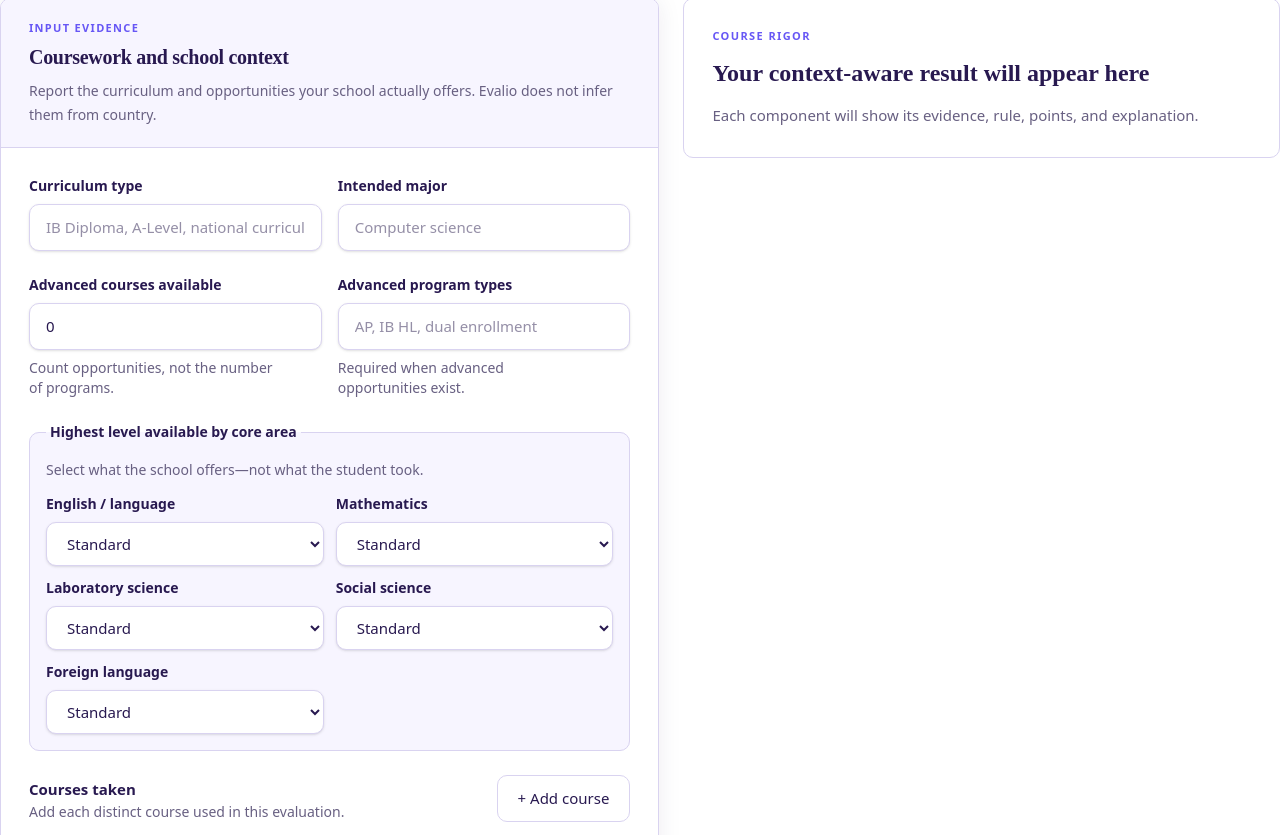
Coursework Evaluator T5 › submits school context and renders evidence for every component
In the field labelled "Curriculum type": (175, 228) [29,204,322,251], type "National curriculum"
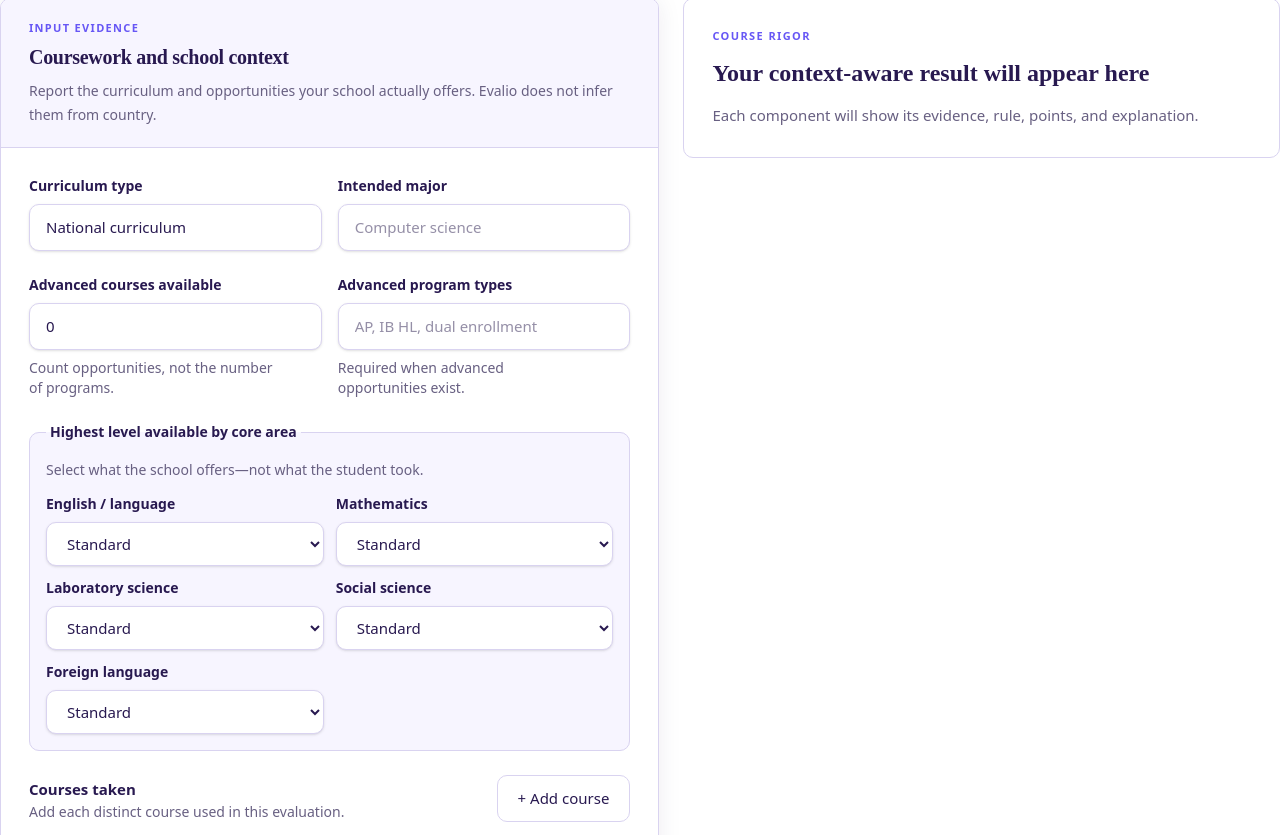
In the field labelled "Intended major": (484, 228) [338,204,630,251], type "Economics"
(page scrolled)
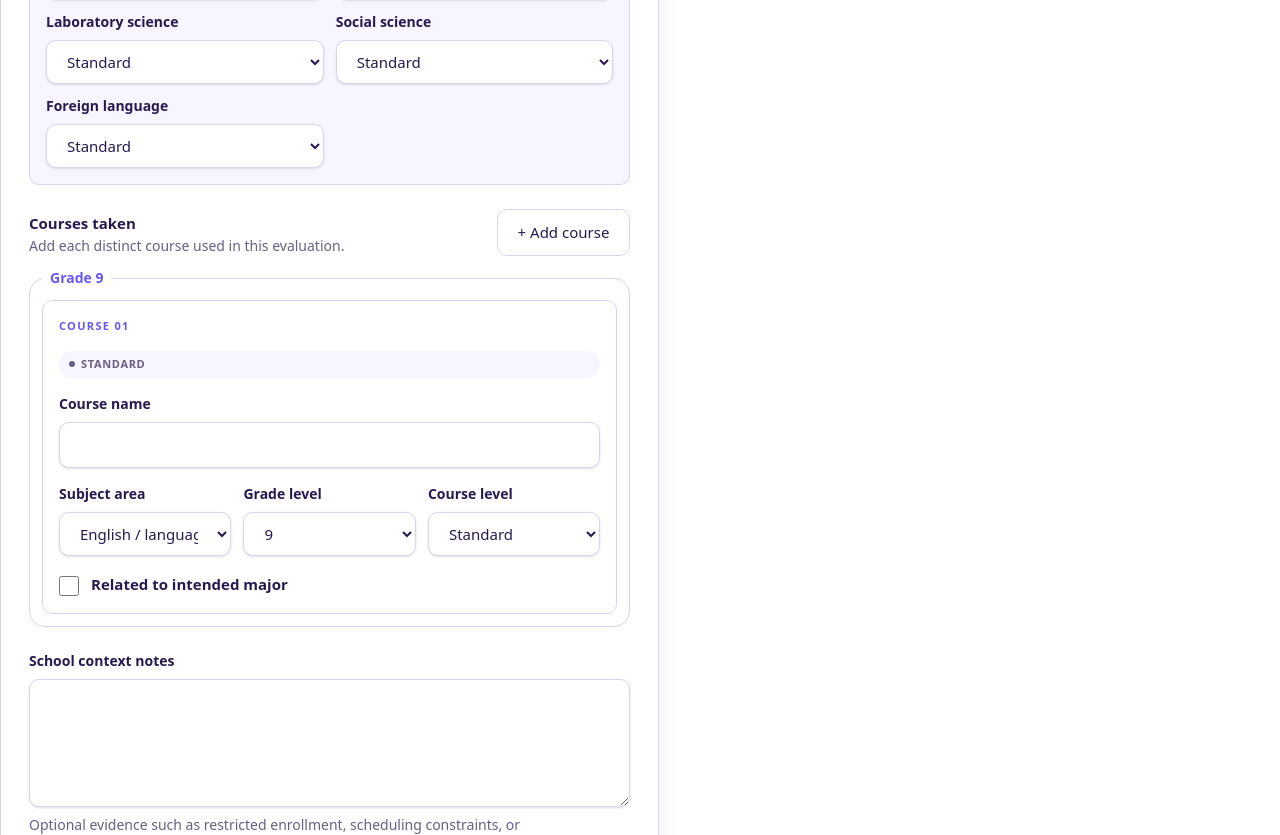
In the field labelled "Course name": (330, 445) [59,422,600,468], type "English Literature"
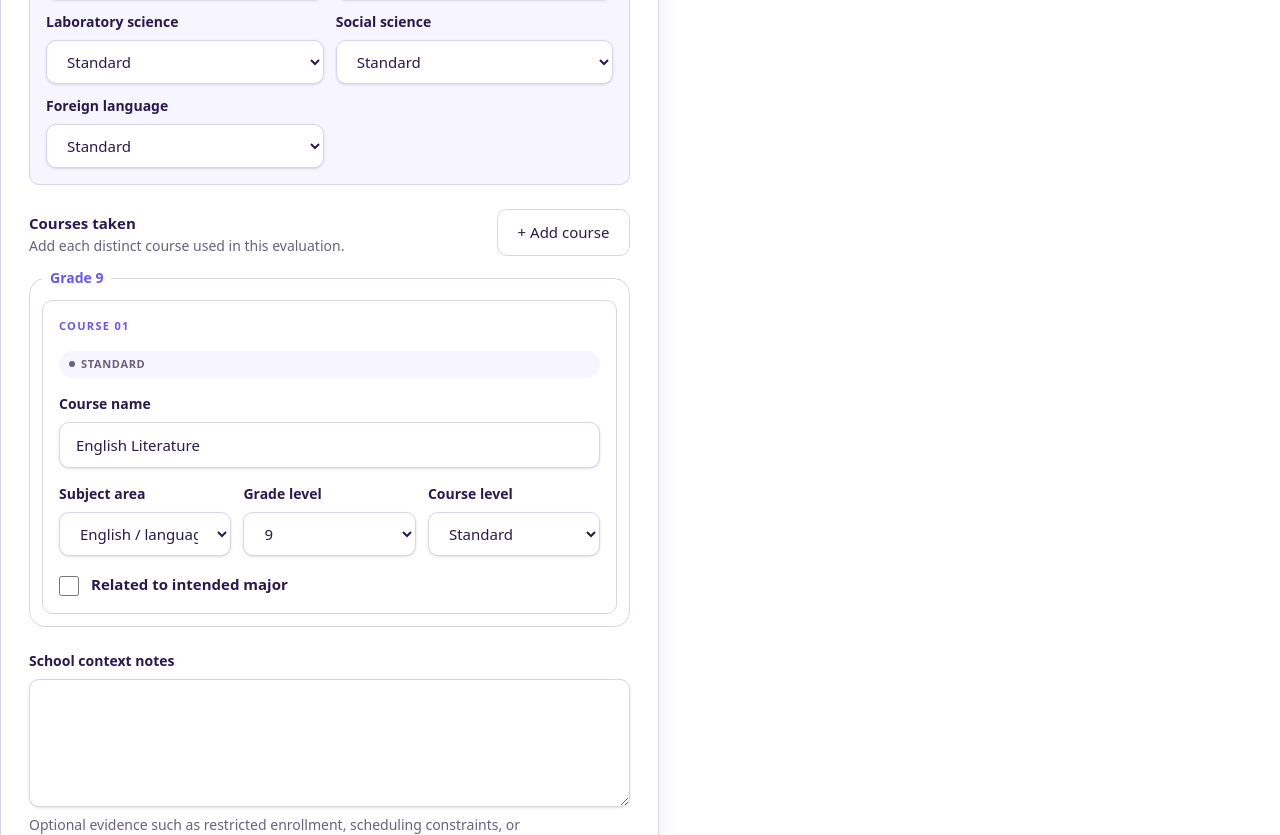
In the text box labelled "School context notes": (330, 743) [29,679,630,807], type "No AP or IB courses are available."
(page scrolled)
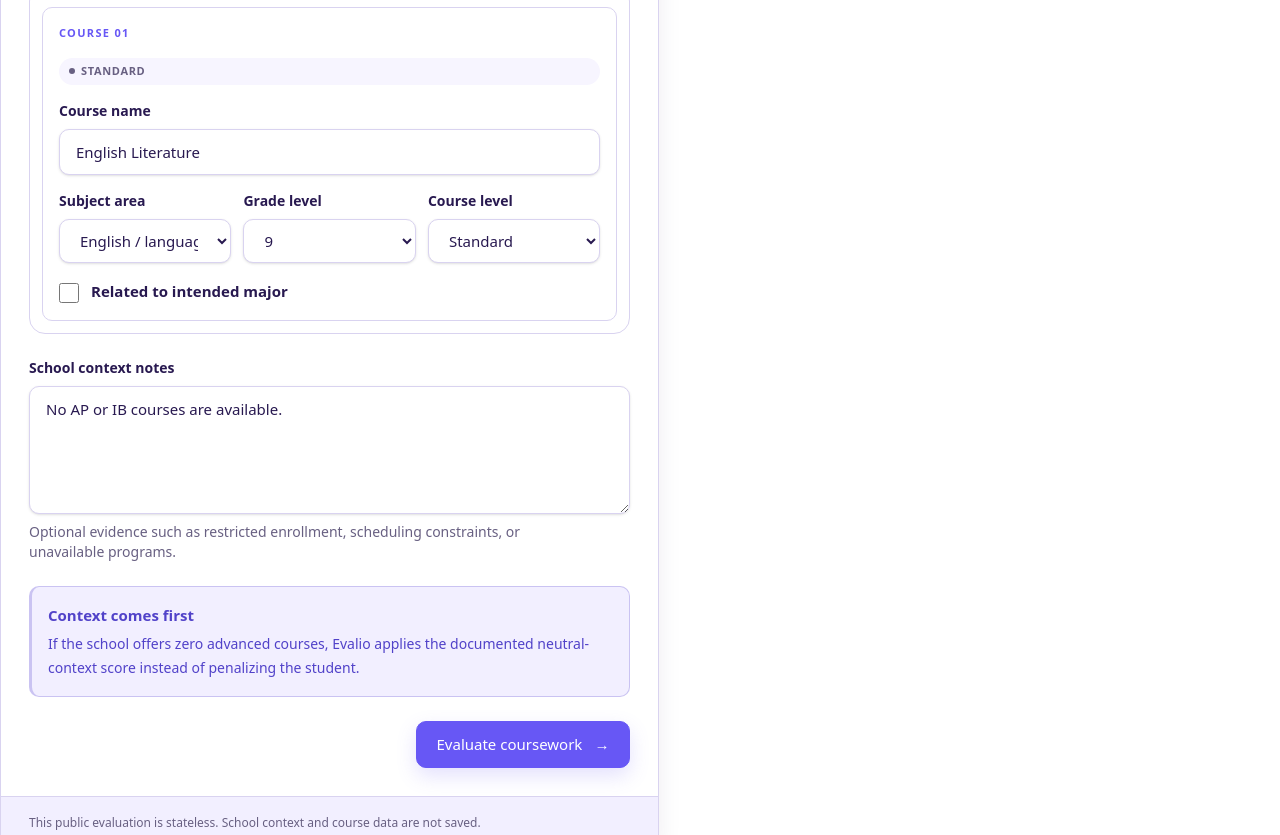
Click the button "Evaluate coursework →": (523, 745) [416,721,630,768]
(page scrolled)
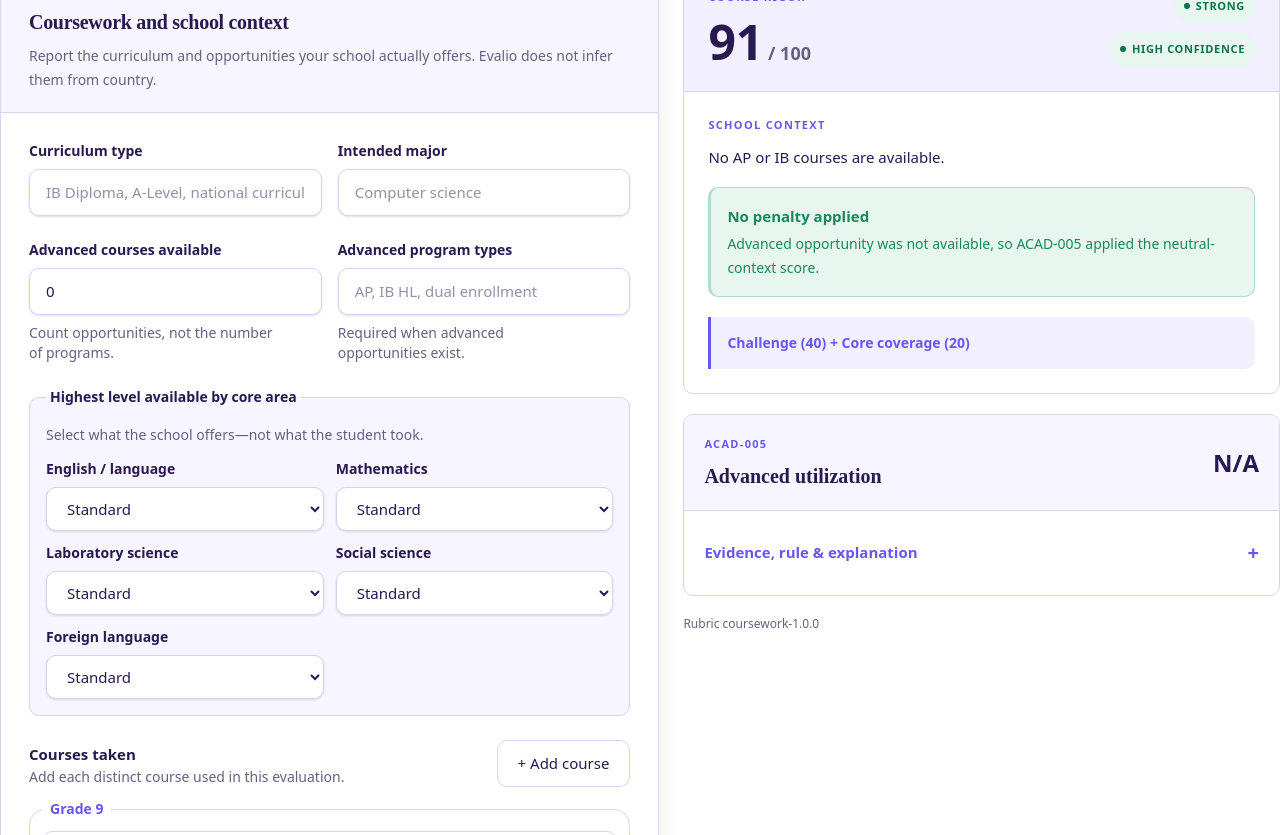
Expected: the text "91" is shown, [708,9,763,74]
Expected: the text "No penalty applied" is shown, [727,206,869,226]
Expected: the text "ACAD-005" is shown, [704,436,768,451]
